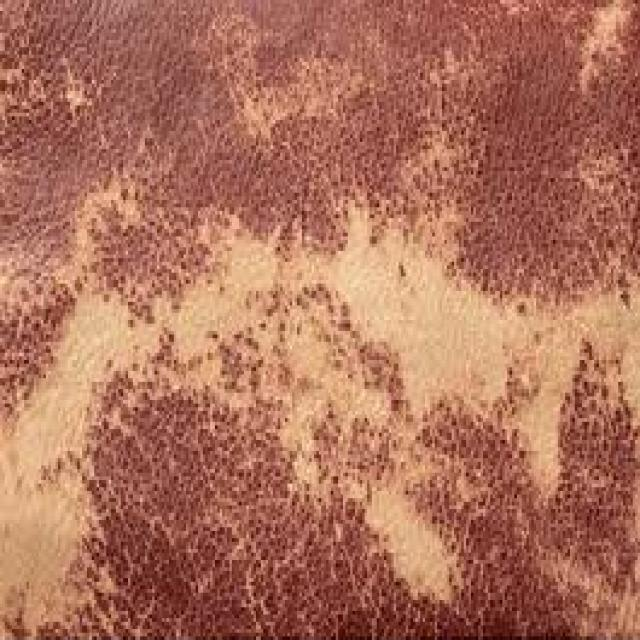Rotten surface: (184, 209, 608, 455), (9, 274, 136, 584)
